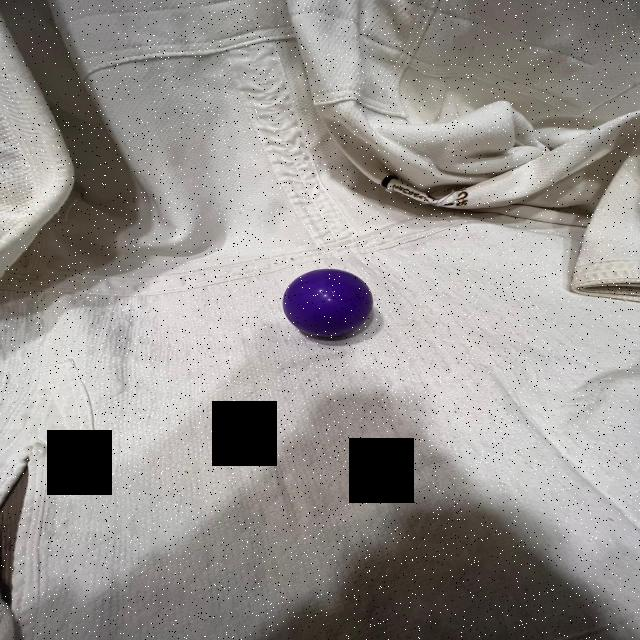ball: (277, 267, 378, 344)
